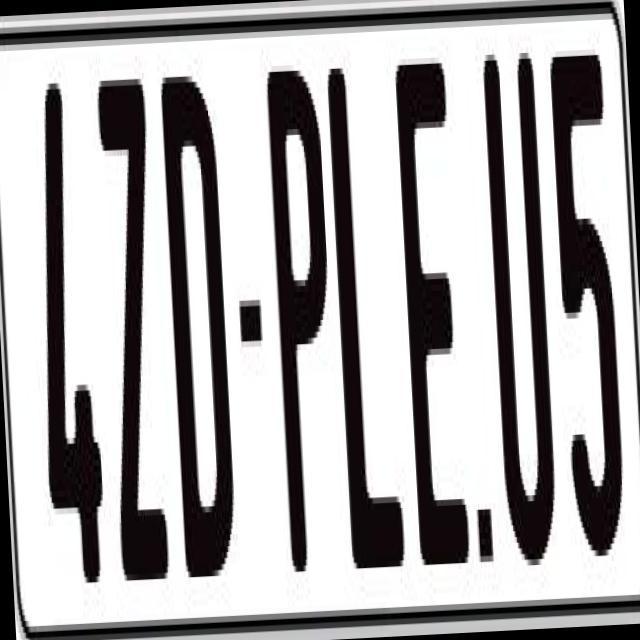4: (26, 70, 109, 590)
5: (546, 49, 630, 586)
D: (158, 75, 238, 595)
E: (390, 52, 468, 589)
L: (326, 54, 406, 574)
P: (266, 63, 352, 601)
U: (478, 47, 563, 560)
Z: (94, 73, 170, 593)
